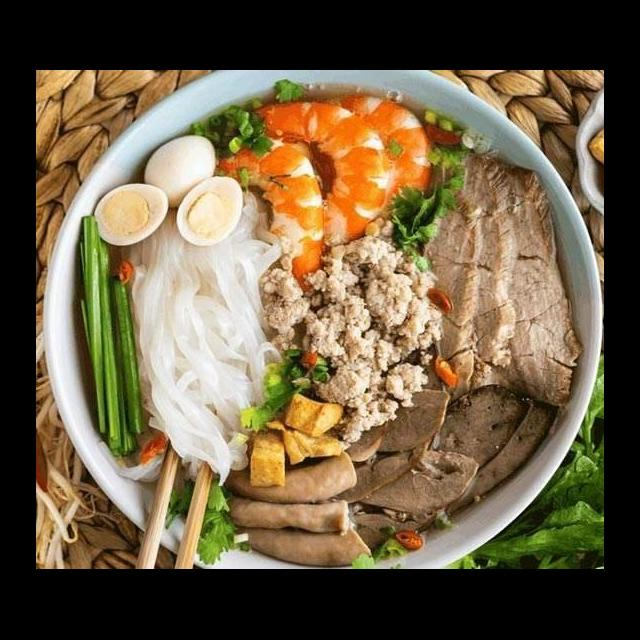dau hu: (245, 386, 350, 494)
gan: (345, 394, 566, 544), (413, 380, 541, 486)
hu tieu: (120, 184, 296, 492)
thit bam: (252, 230, 446, 446)
thit heo: (449, 144, 589, 423), (418, 142, 523, 374), (401, 180, 484, 412)
tom: (243, 90, 399, 260), (310, 88, 438, 254), (208, 136, 332, 304)
trung: (138, 132, 220, 214), (173, 172, 251, 252), (86, 178, 172, 250)
